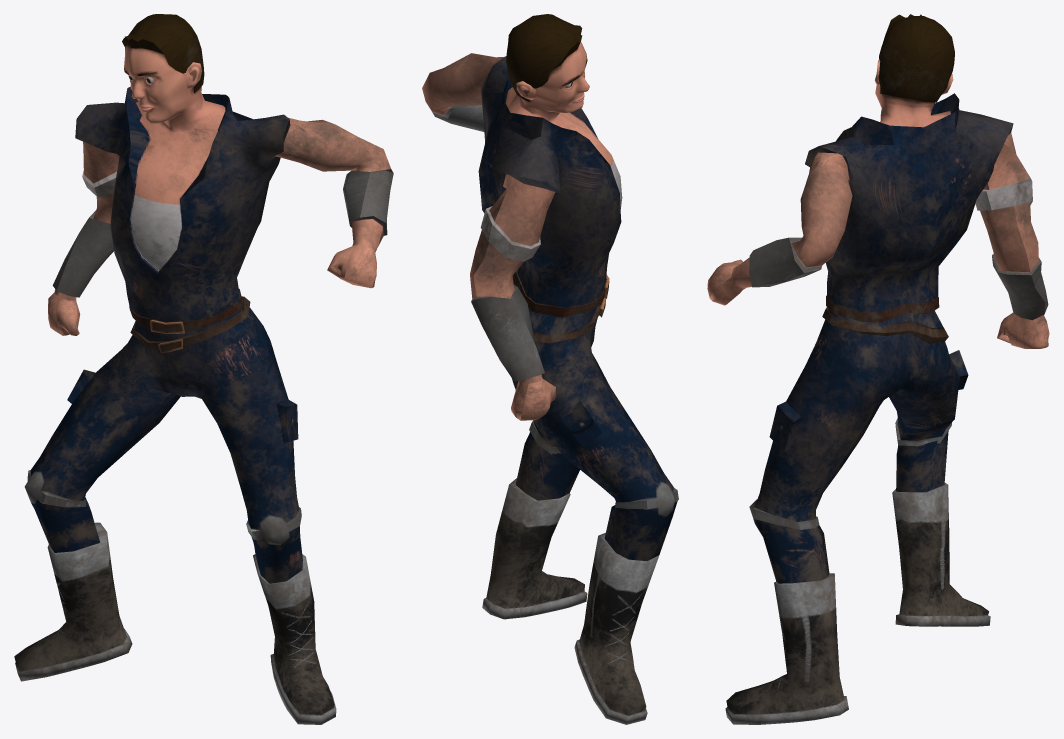
File: Anim_ataque_f2_jugador.0022.obj
3 renders of one model, left to right at view 1: azimuth 30°, elevation 25°; view 2: azimuth 150°, elevation 25°; view 3: azimuth 270°, elevation 25°, orthographic.
Visible parts, largest first — view 1: polySurface1; view 2: polySurface1; view 3: polySurface1.
Part boxes in pixels (bbox=[...]): polySurface1: bbox=[14, 14, 393, 724]; polySurface1: bbox=[422, 14, 678, 724]; polySurface1: bbox=[707, 14, 1049, 724].
Bounding box in the file's own units: 4.56 × 9.39 × 4.37.
